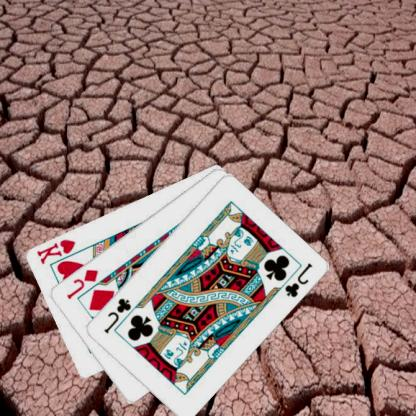JC: (283, 260, 316, 299), (103, 295, 134, 335)
JD: (65, 266, 101, 300)
KH: (36, 236, 78, 265)
